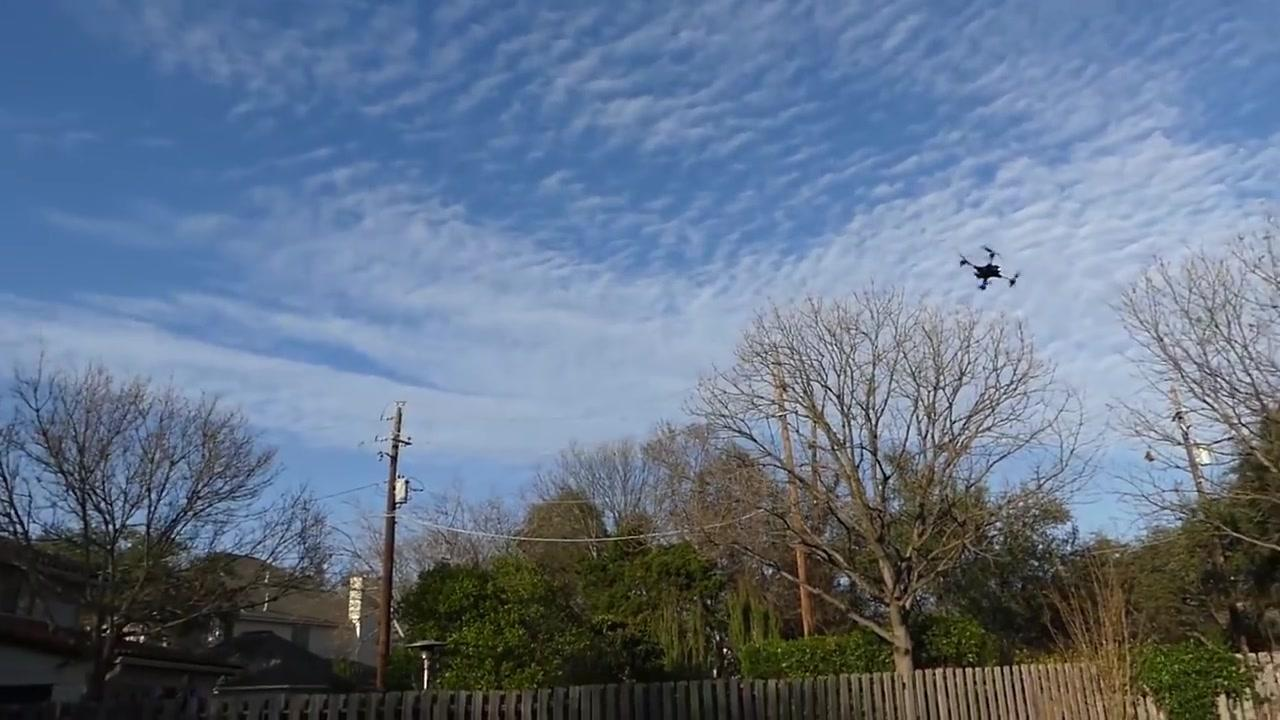UAV: (958, 245, 1025, 293)
